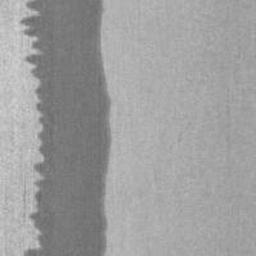Water spot: (17, 0, 113, 256)
